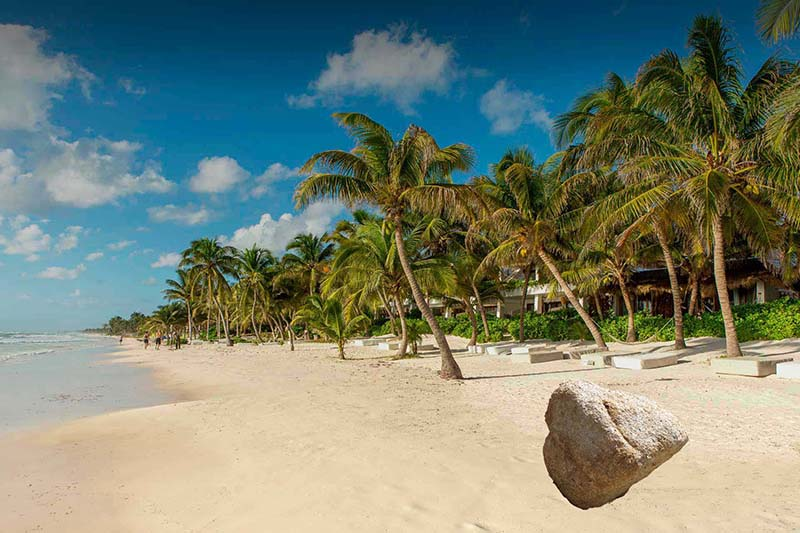Rocks: (535, 375, 694, 520)
